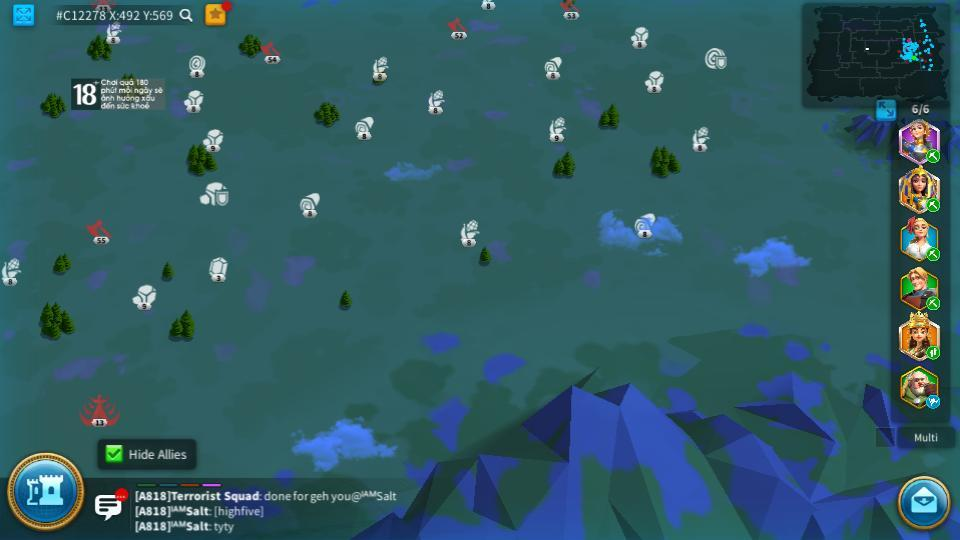gem-z-out: (206, 257, 228, 280)
march_idle: (925, 396, 942, 408)
march_marching: (925, 197, 941, 212), (925, 150, 942, 162), (925, 297, 942, 308), (926, 347, 941, 359), (925, 250, 941, 261)
